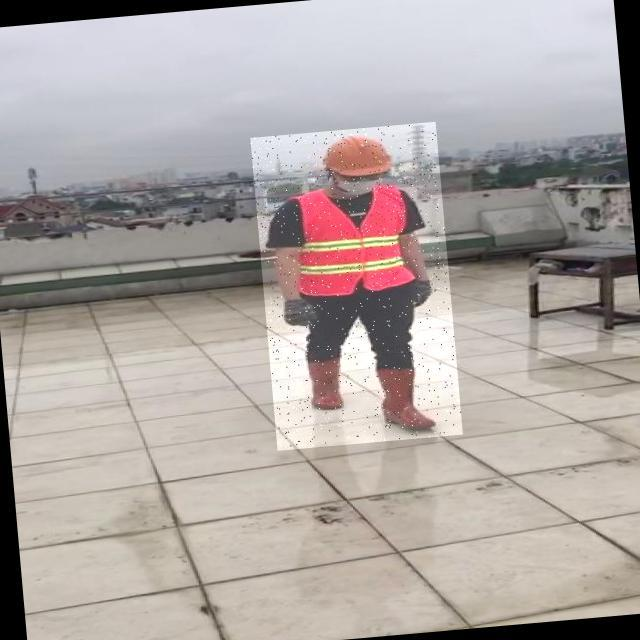Gloves: (281, 296, 317, 329), (407, 278, 438, 311)
Helmet: (316, 129, 397, 180)
Human: (250, 121, 463, 450)
Safety Boot: (372, 363, 437, 436), (305, 354, 350, 411)
Safety Vest: (289, 185, 417, 297)
